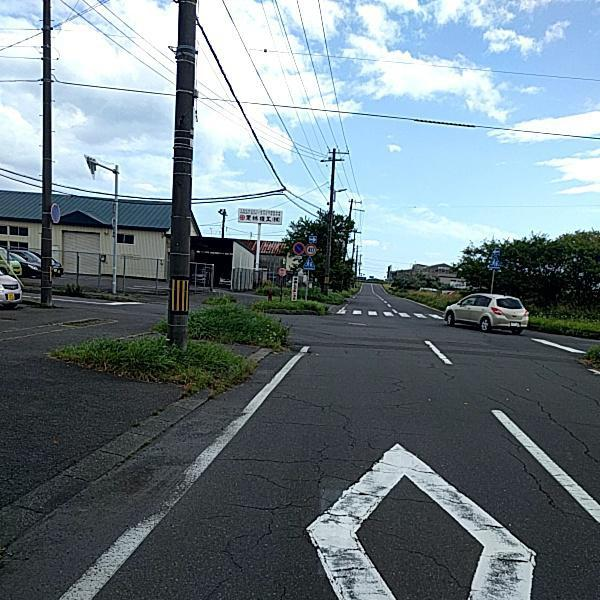D20: (207, 363, 599, 599)
D44: (64, 362, 291, 596), (283, 427, 547, 599)
